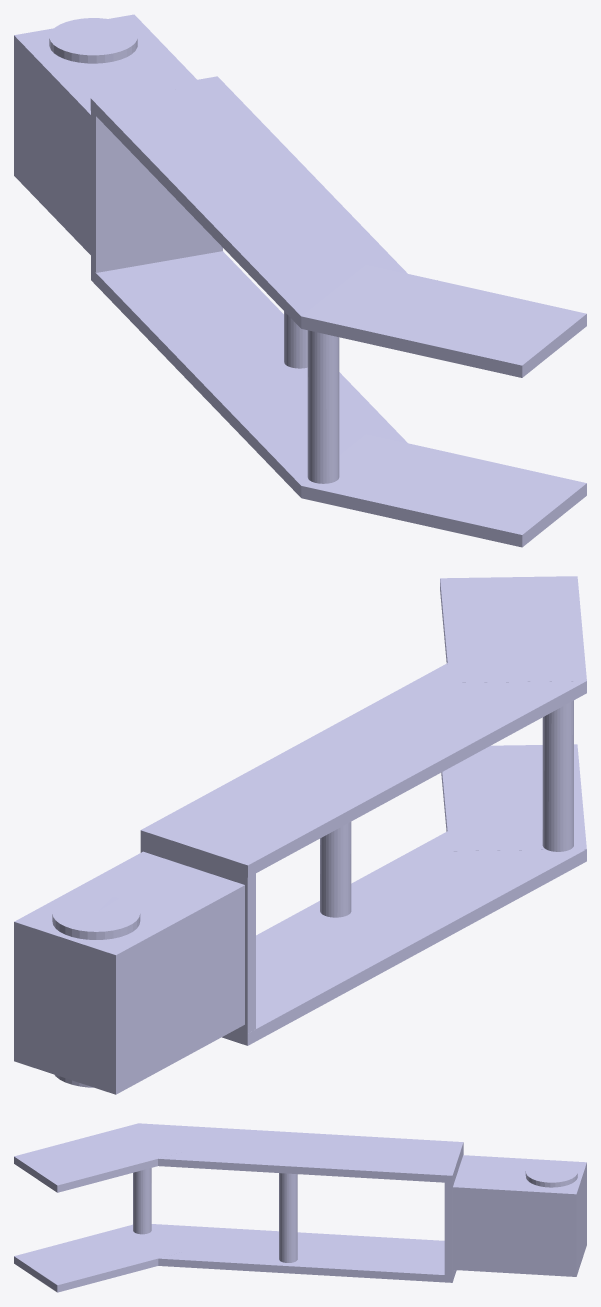
The model's file is dbAlpha_URDF_Leg_Abdomen_RearLeft_Link2__89__.dae.
3 renders of one model, top to bottom at view 1: azimuth 30°, elevation 25°; view 2: azimuth 150°, elevation 25°; view 3: azimuth 270°, elevation 25°, orthographic. The views are drawn at different scales.
Visible parts, largest first — view 1: Node_0x7f7afcdb9410 (×9); view 2: Node_0x7f7afcdb9410 (×9); view 3: Node_0x7f7afcdb9410 (×9).
Part boxes in pixels (x1=…): Node_0x7f7afcdb9410 (×9): x1=14, y1=14, x2=586, y2=547; Node_0x7f7afcdb9410 (×9): x1=14, y1=576, x2=586, y2=1094; Node_0x7f7afcdb9410 (×9): x1=14, y1=1123, x2=586, y2=1292.
Bounding box in the file's own units: 0.0549 × 0.044 × 0.2134.
